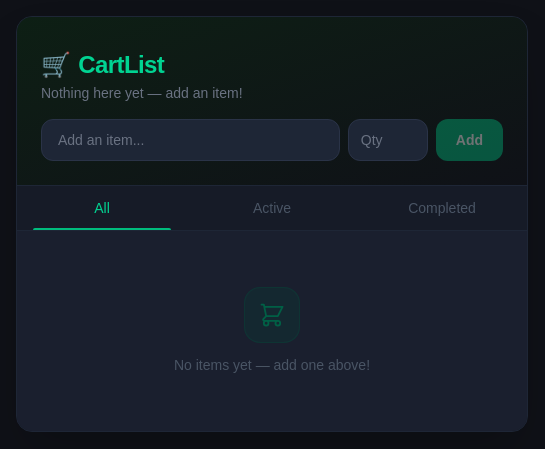
Test: TodoApp › Adding items › adds a new item on Enter key press
The width and height of the screenshot is (545, 449).
Type "Buy groceries" into the field with placeholder "Add an item...".
click(190, 140); type("Buy groceries")  # box 41,119 -> 340,161
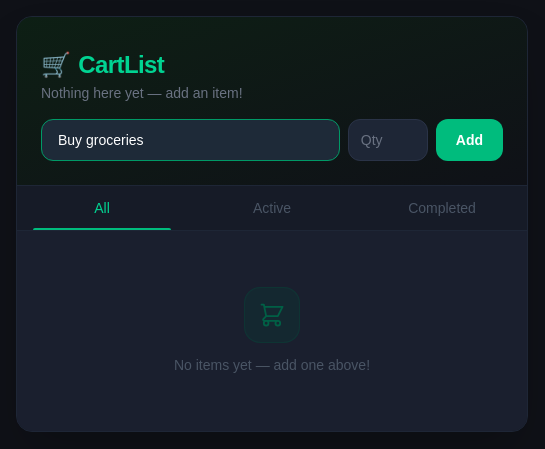
Press Enter
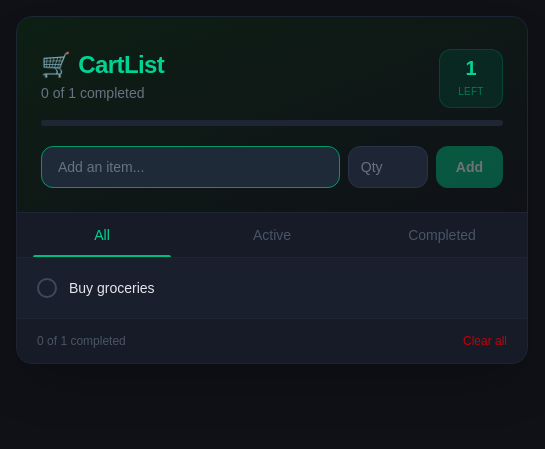
expect the text "Buy groceries" is shown: met, box 69,280 -> 155,296
